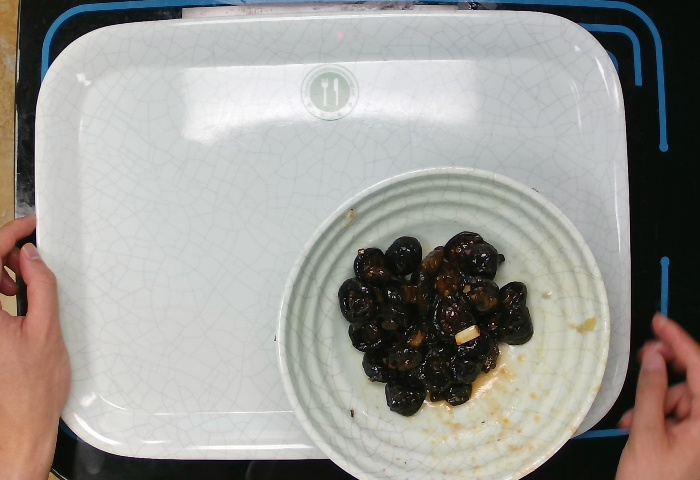JYsf-Da_Tang_Wan: (270, 158, 616, 480)
